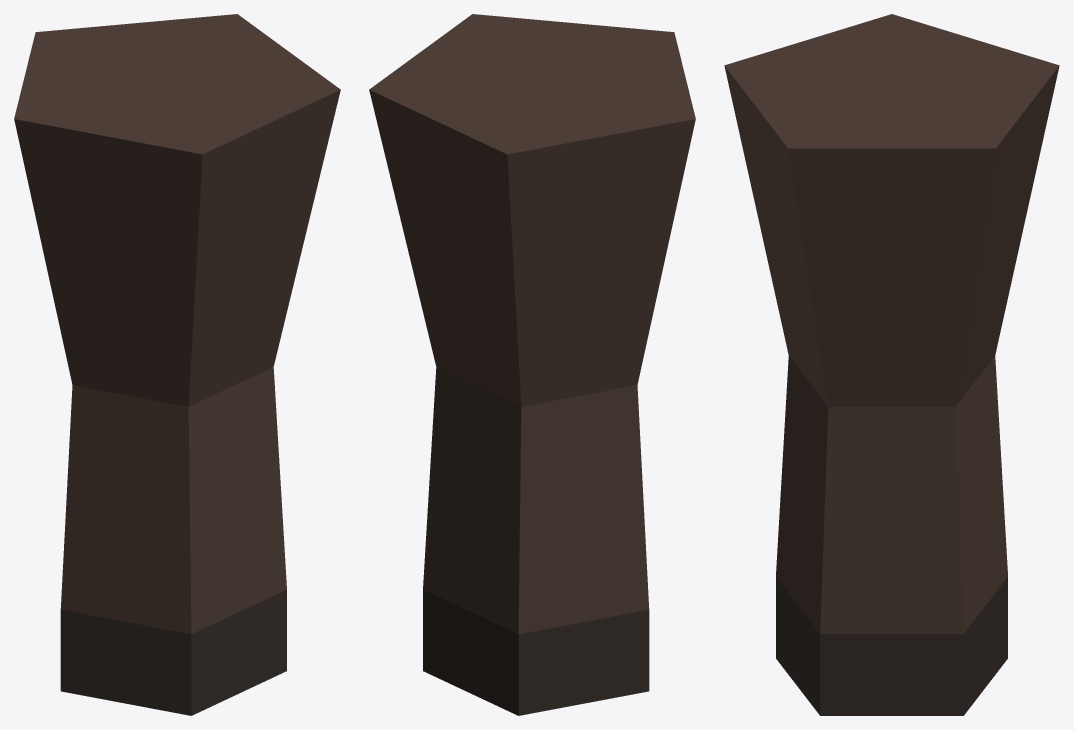
File: animal_wildboar_leg.obj
3 views of the same model, side by side, from view 1: azimuth 30°, elevation 25°; view 2: azimuth 150°, elevation 25°; view 3: azimuth 270°, elevation 25° (orthographic).
Visible parts, largest first — view 1: animal_wildboar_leg; view 2: animal_wildboar_leg; view 3: animal_wildboar_leg.
Part boxes in pixels (box(x1,y1,x2,y2)): animal_wildboar_leg: box(14, 14, 340, 715); animal_wildboar_leg: box(369, 14, 695, 715); animal_wildboar_leg: box(724, 14, 1059, 715).
Bounding box in the file's own units: 0.1386 × 0.2811 × 0.1458.
